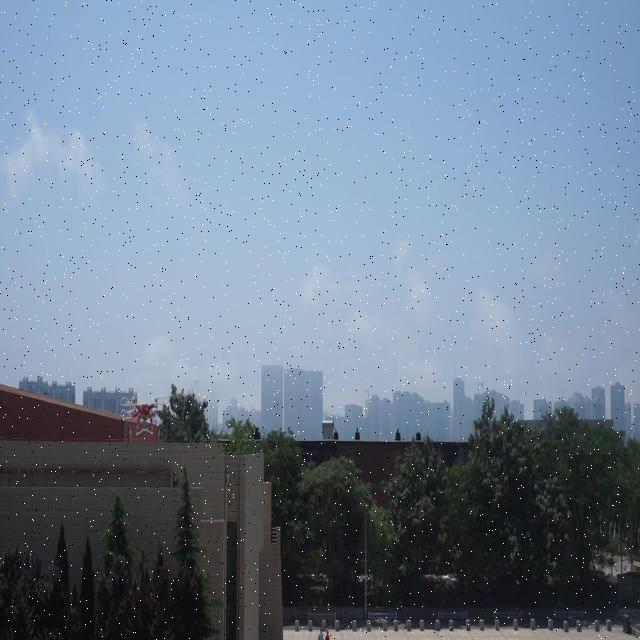UAV: (120, 396, 169, 435)
